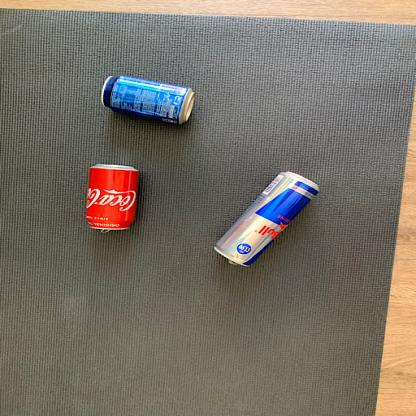trash: (210, 171, 317, 274), (98, 72, 199, 128), (82, 163, 141, 237)
